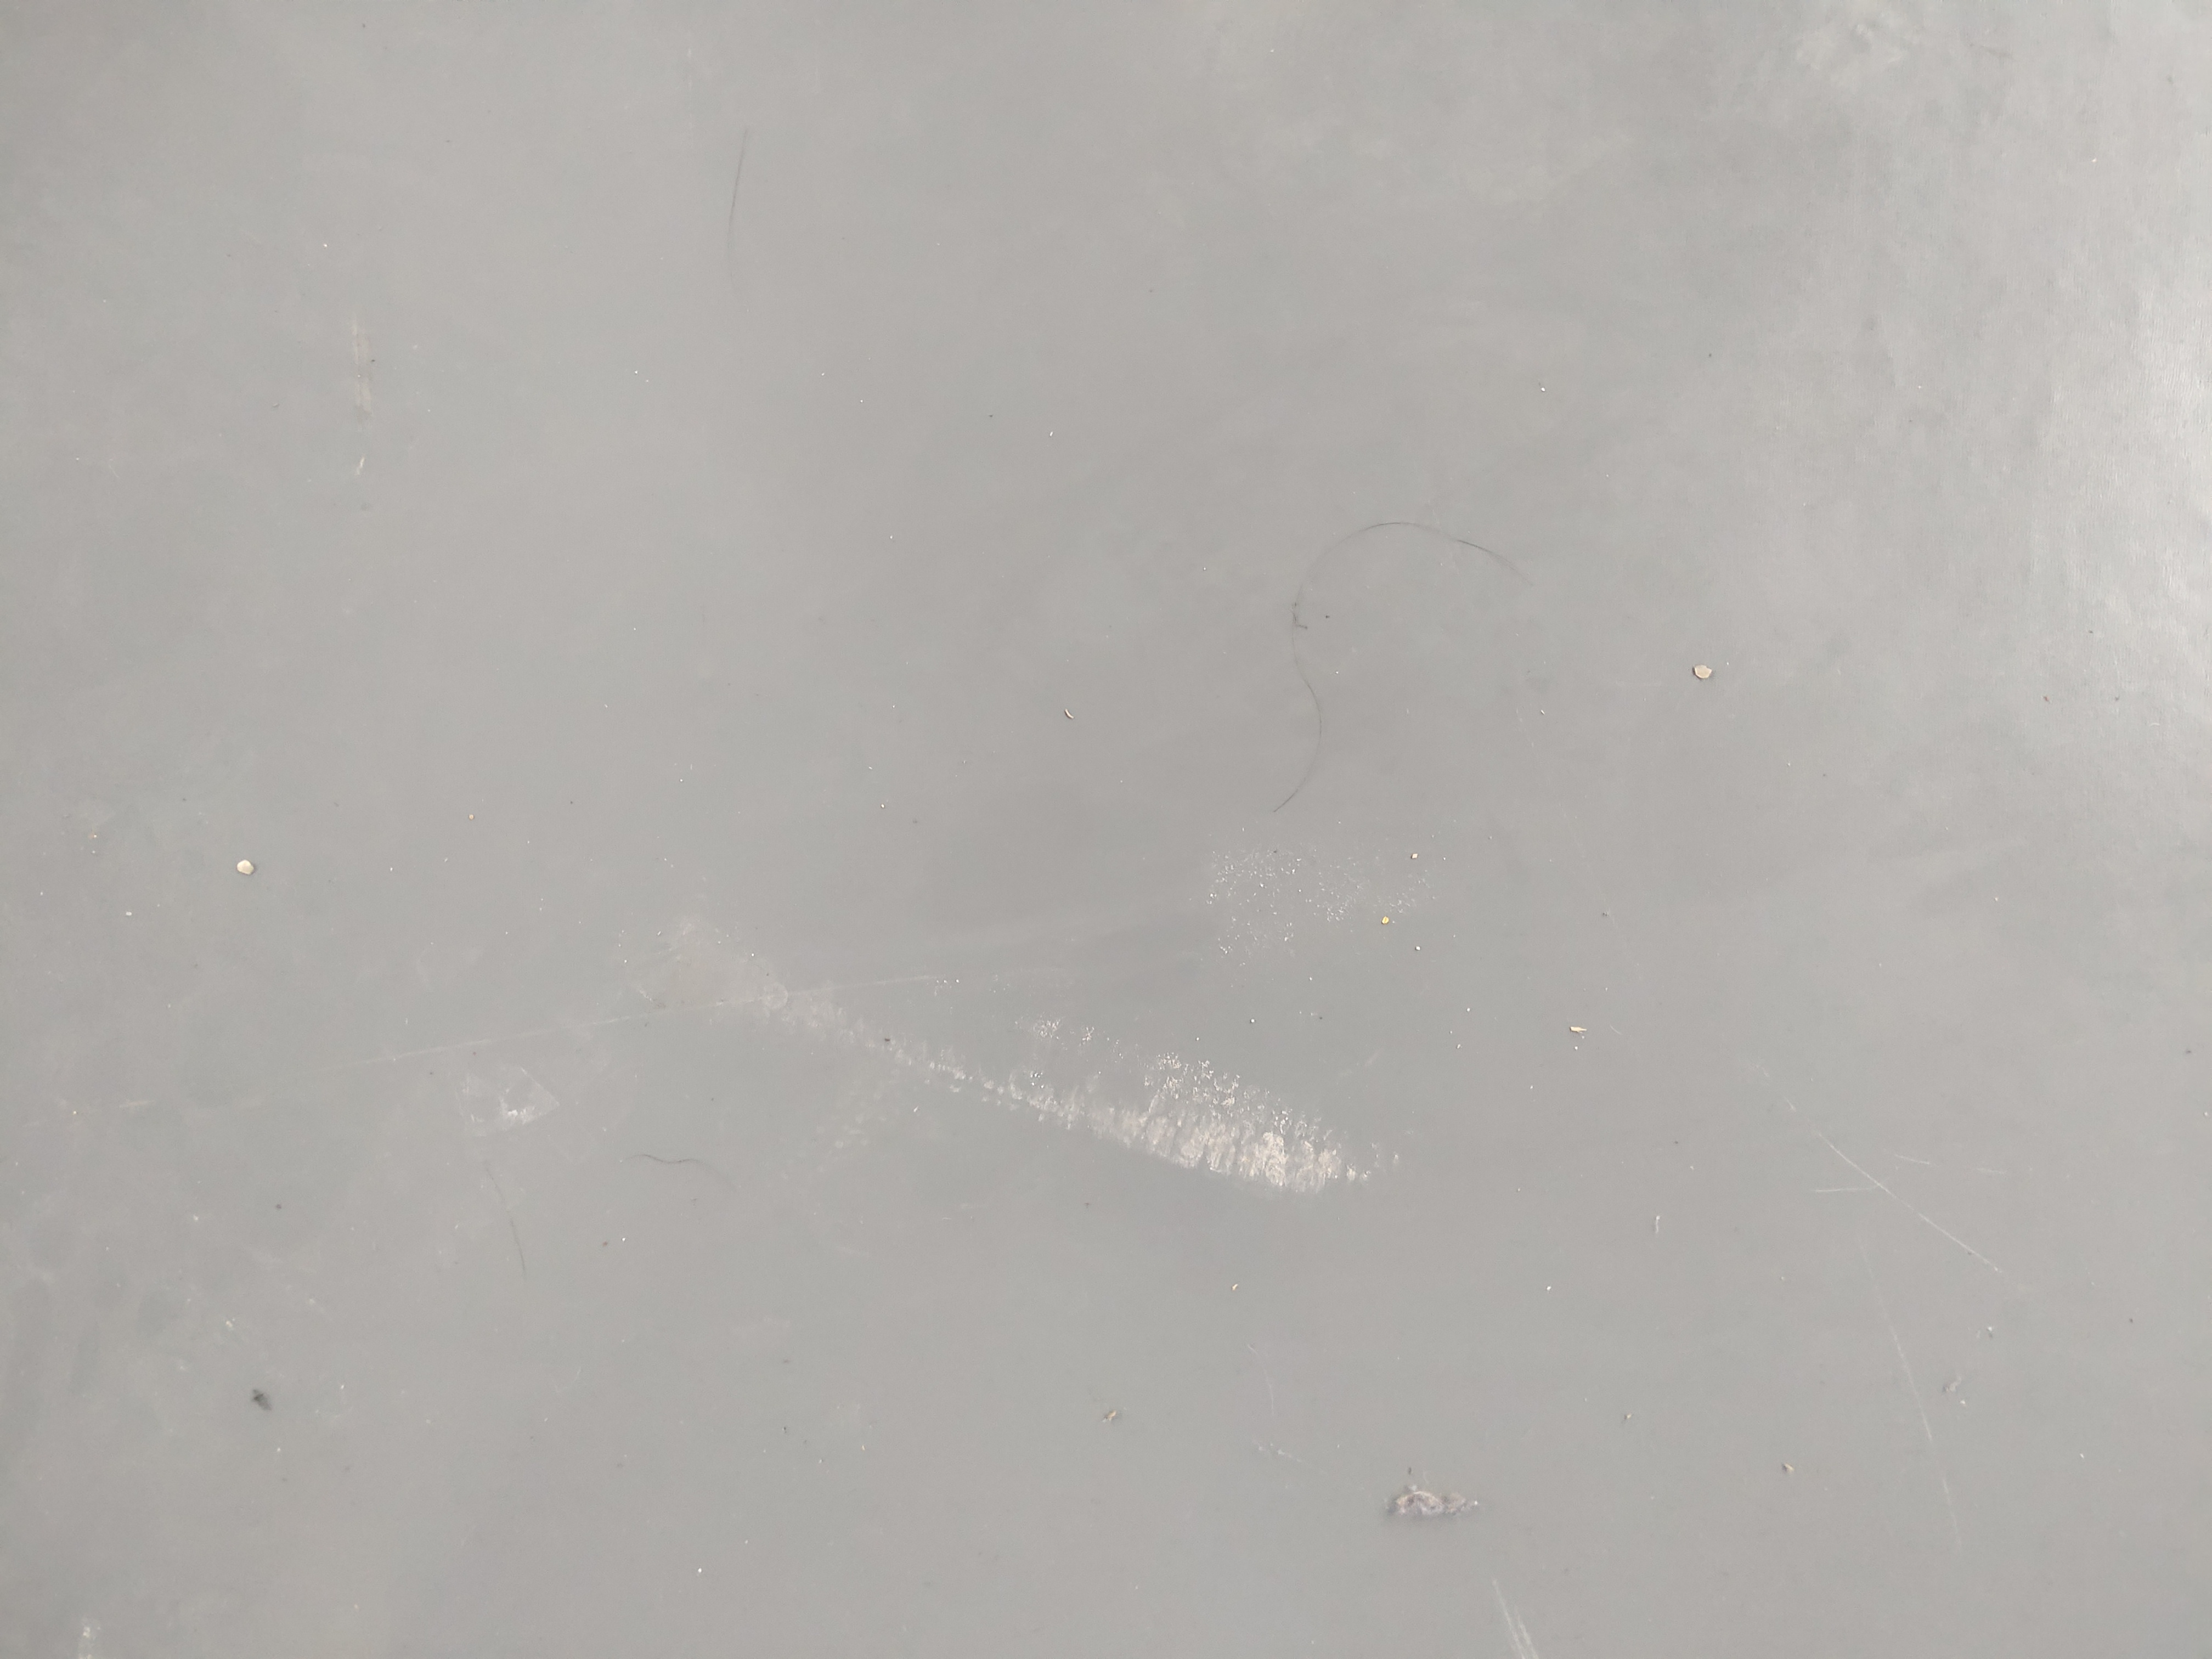ash pile: (1024, 1054, 1371, 1190)
